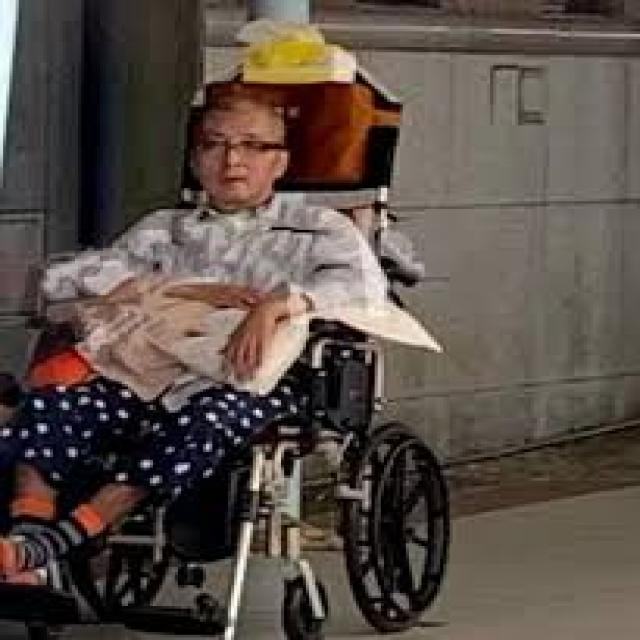wheelchairs: (0, 154, 493, 637)
